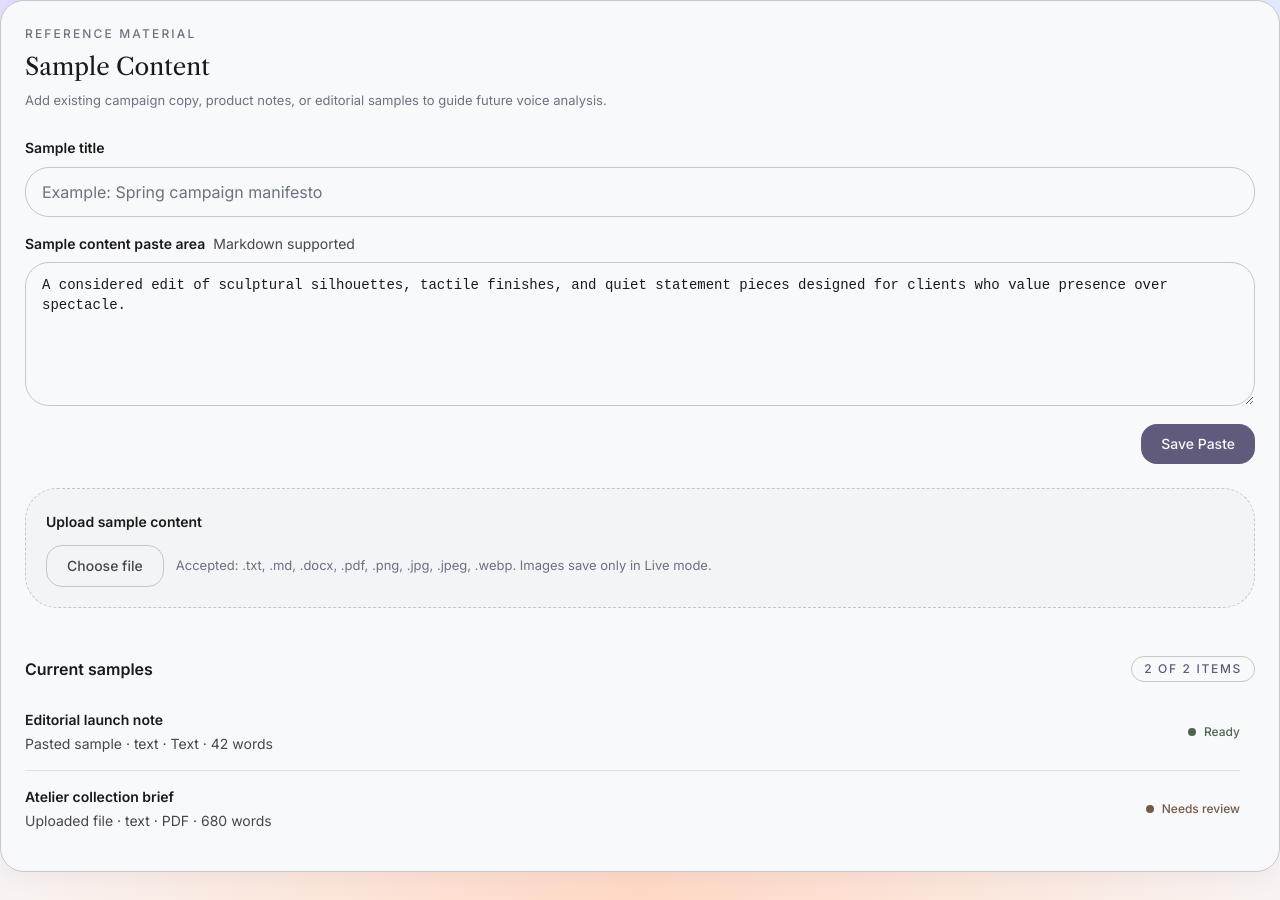
Scenario: SampleContentUploader › blocks fake writes in mock mode
Click the button "Save Paste" at (1198, 444), box [1141,424,1255,464]
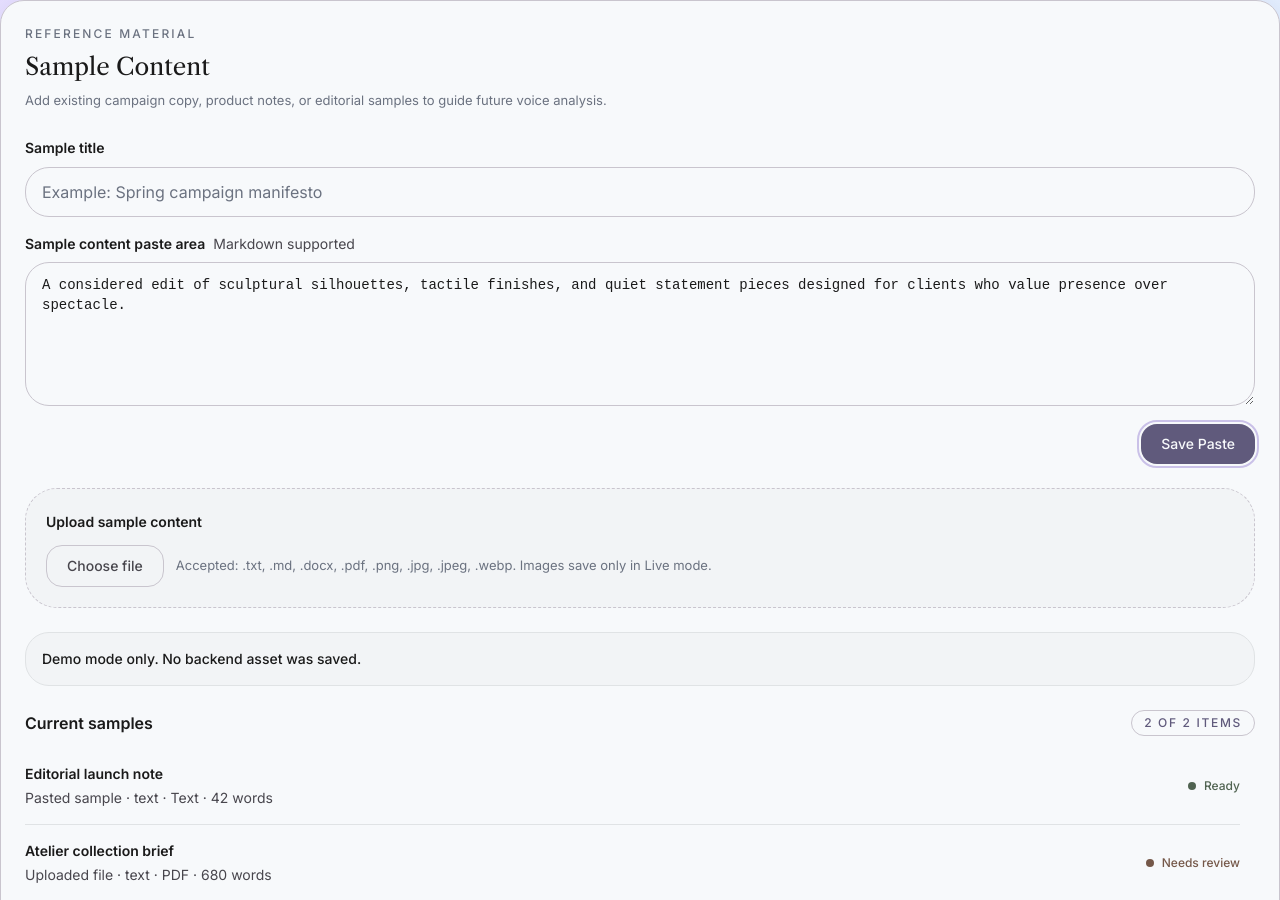
Check: the text "Demo mode only. No backend asset was saved." is shown, box [25,632,1255,686]
